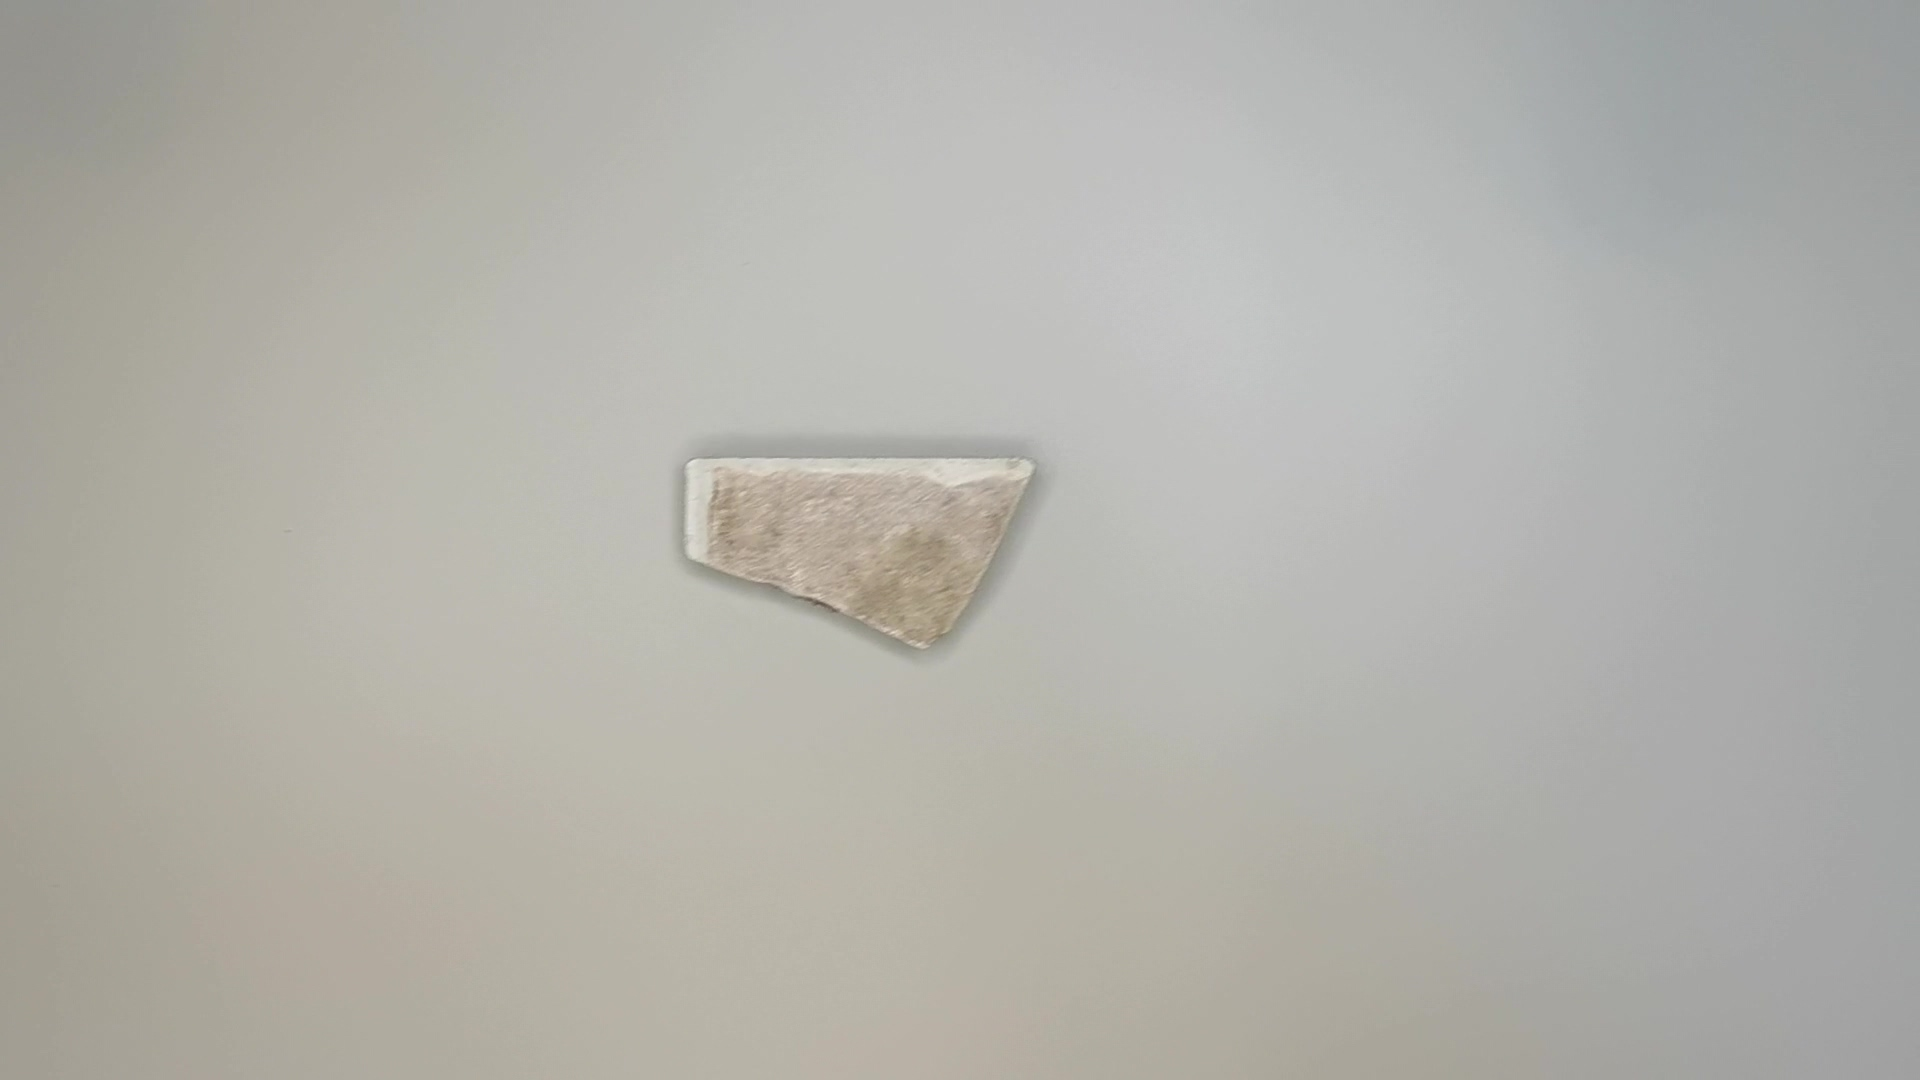ceramic: (665, 443, 1048, 655)
